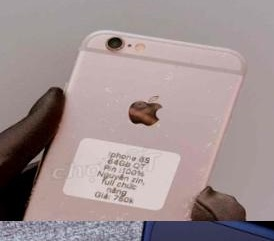scratch: (161, 94, 244, 221), (88, 65, 185, 142), (169, 31, 255, 83), (18, 189, 155, 221)
